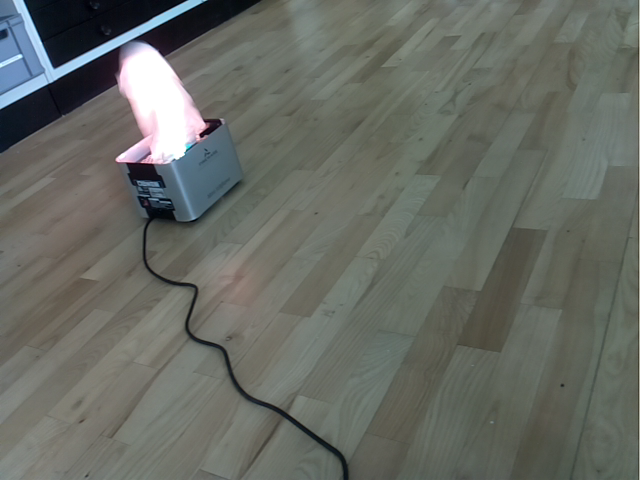fire: (117, 42, 207, 165)
